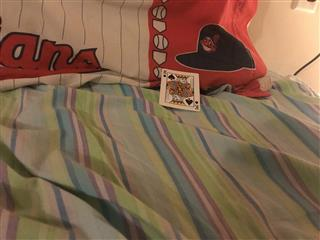KingOfSpades: (158, 67, 200, 112)
